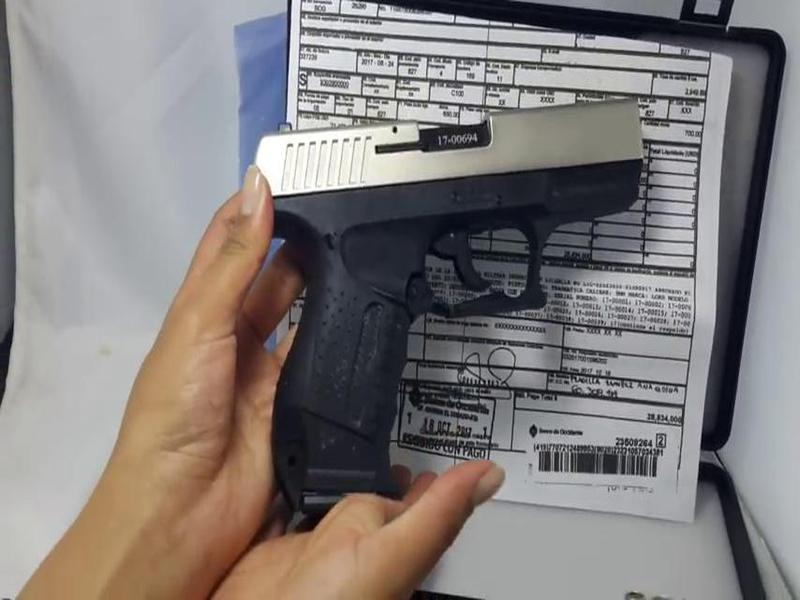Pistola: (233, 65, 628, 510)
